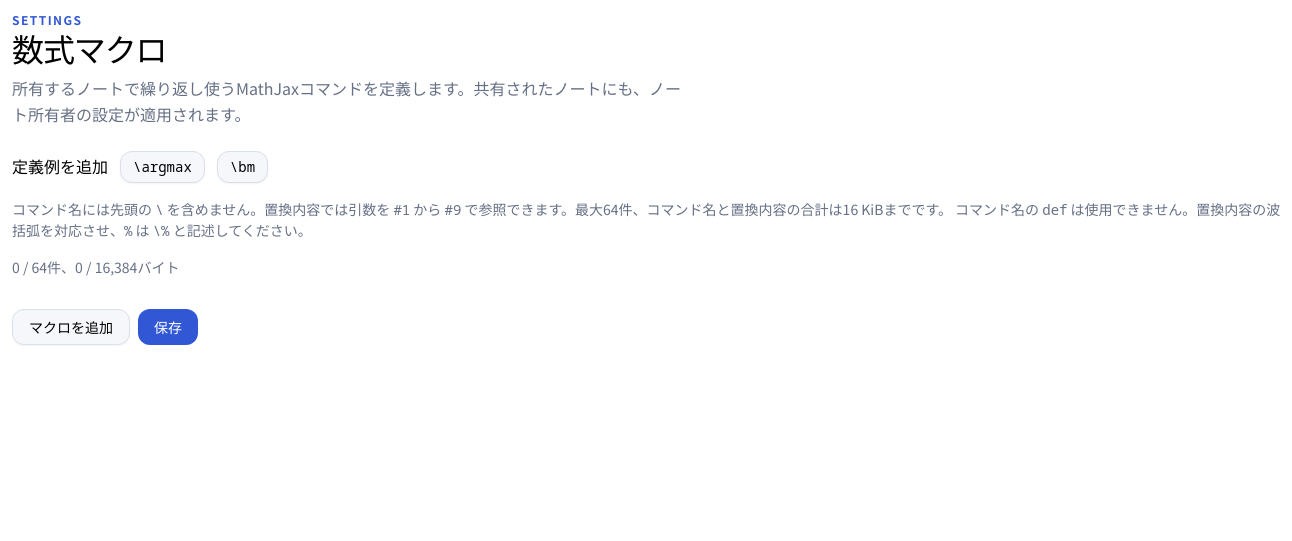
Test: revision競合を入力不正や通信失敗と区別して案内する
Click the button "\\argmax".
click(162, 167)  # box x1=120 y1=151 x2=205 y2=183
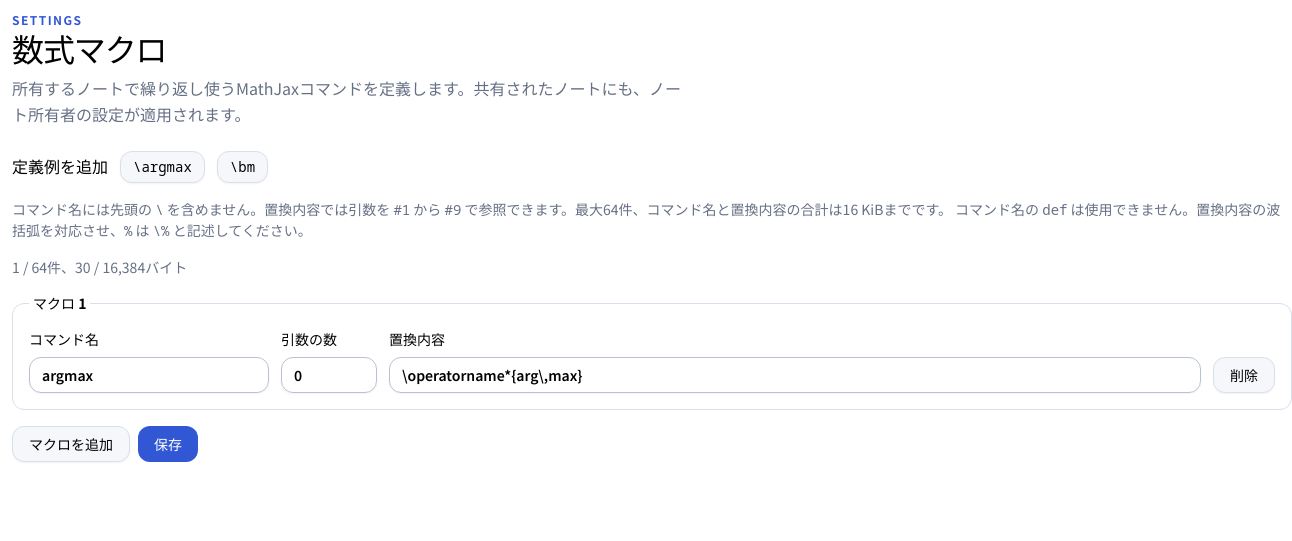
Click the button "保存".
click(168, 444)  # box x1=138 y1=426 x2=198 y2=462
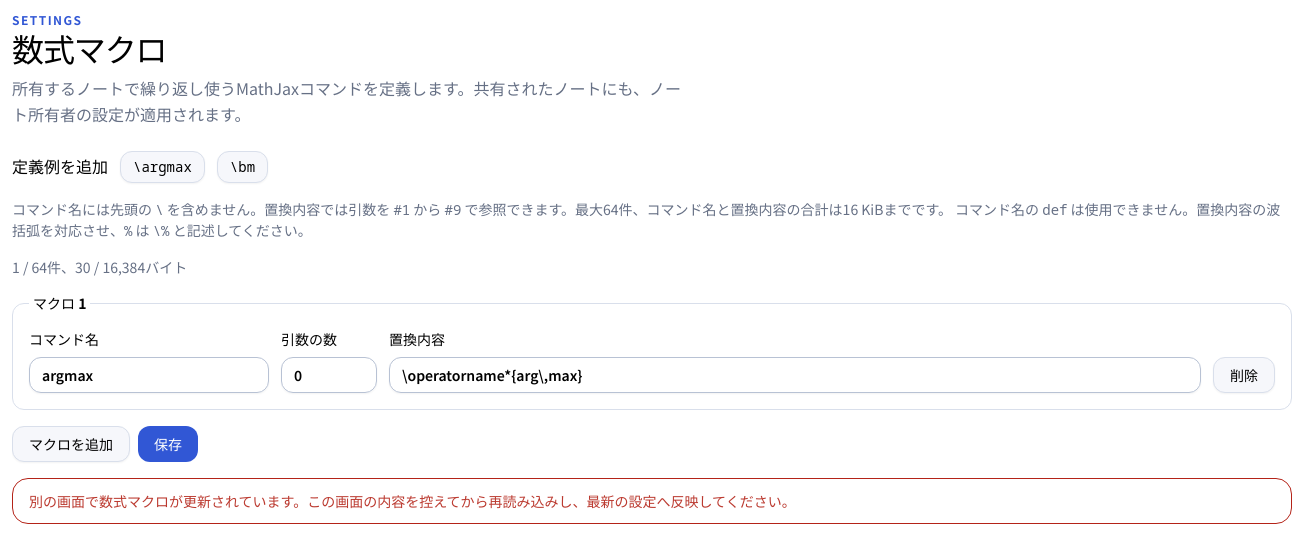
Check: the field labelled "コマンド名" holds "argmax", box x1=29 y1=357 x2=269 y2=393
Check: the message "別の画面で数式マクロが更新されています。この画面の内容を控えてから再読み込みし、最新の設定へ反映してください。" is shown, box x1=12 y1=478 x2=1291 y2=524
